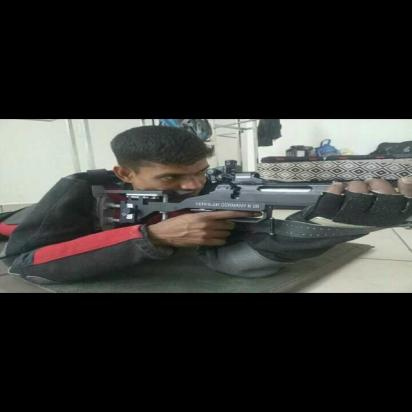Gun: (84, 158, 412, 236)
